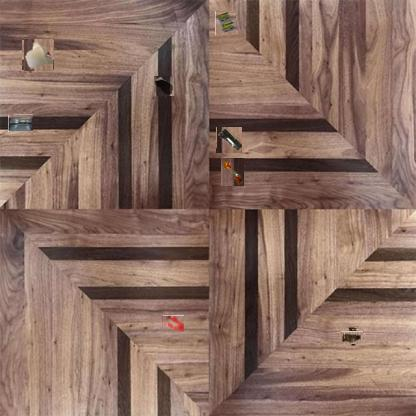dirty: (22, 39, 53, 71), (216, 127, 242, 153), (219, 159, 245, 185), (215, 11, 236, 35), (8, 114, 33, 132), (344, 329, 361, 346)
liquid: (154, 76, 174, 96), (162, 315, 184, 332)
